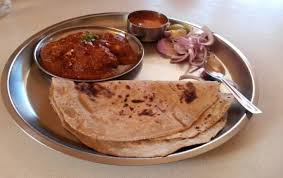curry: (39, 30, 140, 84)
roti: (45, 77, 238, 157)
